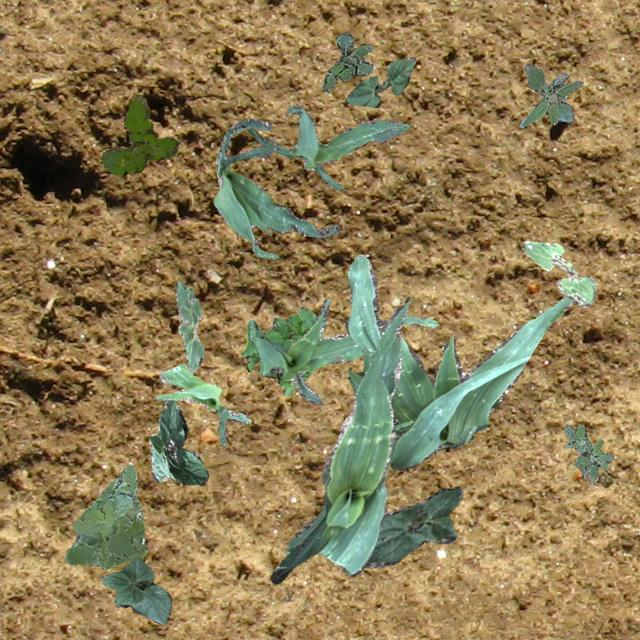crop: (344, 254, 574, 471), (270, 298, 410, 582), (248, 298, 437, 404), (212, 118, 338, 258), (246, 104, 408, 190), (362, 486, 462, 566), (154, 362, 250, 444), (148, 398, 208, 484), (520, 240, 596, 306), (100, 558, 170, 624), (344, 56, 414, 106), (174, 280, 204, 372)
weed: (64, 464, 146, 570), (240, 306, 316, 394), (100, 94, 178, 176), (518, 62, 582, 126), (322, 32, 372, 92), (564, 422, 612, 482)
